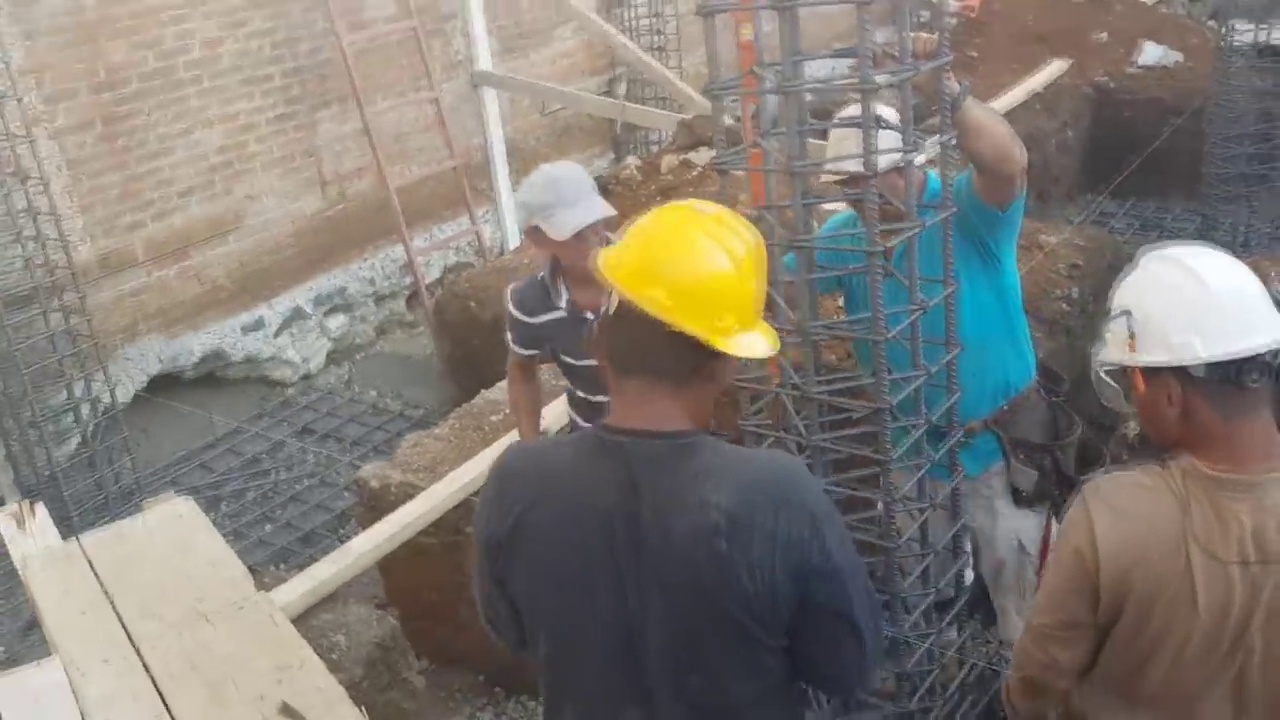helmet: (585, 190, 783, 363), (1105, 245, 1280, 403)
helmet-off: (814, 88, 932, 222), (516, 153, 621, 287)
helmet-on: (573, 192, 782, 444), (1088, 244, 1280, 489)
person: (490, 162, 883, 714), (787, 0, 1028, 720), (1003, 238, 1280, 715), (488, 152, 638, 429)
